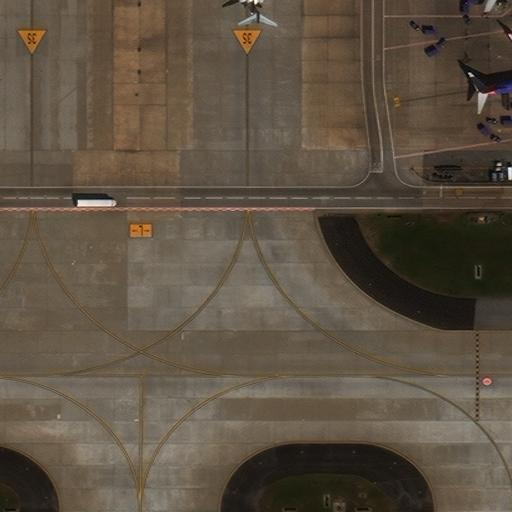Medium Civil Transport: (477, 35, 512, 113)
